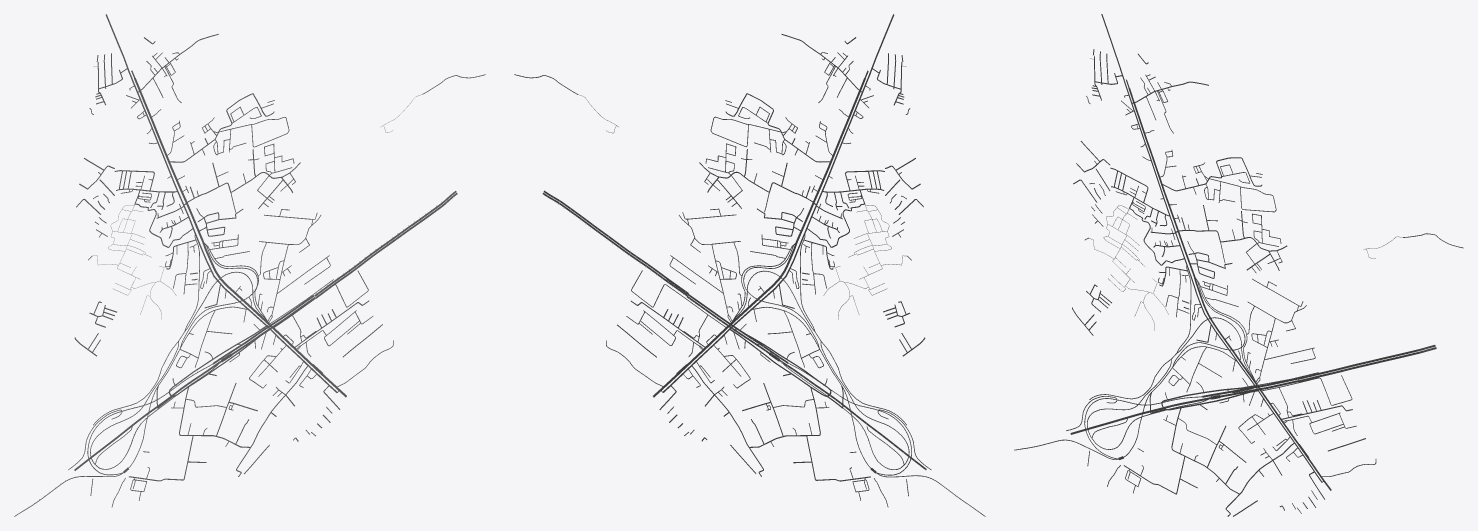
Rendered from roads_4_1.obj.
The picture shows the model from 3 angles, left to right: view 1: azimuth 30°, elevation 25°; view 2: azimuth 150°, elevation 25°; view 3: azimuth 330°, elevation 25°; orthographic projection. The views are drawn at different scales.
Bounding box in the file's own units: 2817 × 2827 × 21.21.
Materials: 5 (5 with a texture image).
